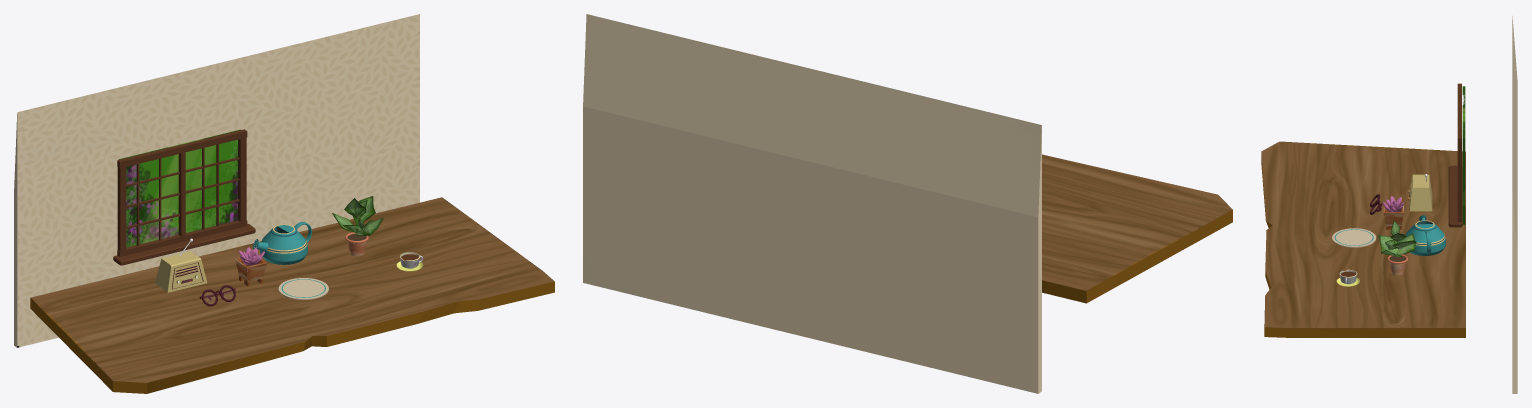
The model's file is escenario3.glb.
3 views of the same model, side by side, from view 1: azimuth 30°, elevation 25°; view 2: azimuth 150°, elevation 25°; view 3: azimuth 270°, elevation 25° (orthographic). The views are drawn at different scales.
Parts seen in each view (by area): view 1: pared, Cube_1.002, Ventana parte 4.001, ventana exterior, Cylinder.001, Cylinder.010, Circle.001, Cube; view 2: pared, Cube_1.002; view 3: Cube_1.002, pared, Ventana parte 4.001, Cylinder.001, Cylinder.010, Circle.001, ventana exterior, Matera_Tierra.001, Cube.
Part boxes in pixels (bbox=[...]): pared: bbox=[14, 14, 419, 347]; Cube_1.002: bbox=[30, 197, 554, 393]; Ventana parte 4.001: bbox=[113, 129, 255, 265]; ventana exterior: bbox=[118, 129, 240, 247]; Cylinder.001: bbox=[253, 222, 311, 264]; Cylinder.010: bbox=[155, 238, 207, 292]; Circle.001: bbox=[278, 278, 328, 299]; Cube: bbox=[235, 258, 266, 286]; pared: bbox=[583, 14, 1041, 393]; Cube_1.002: bbox=[1042, 154, 1232, 303]; Cube_1.002: bbox=[1261, 141, 1465, 337]; pared: bbox=[1512, 16, 1517, 393]; Ventana parte 4.001: bbox=[1448, 83, 1462, 227]; Cylinder.001: bbox=[1405, 215, 1445, 255]; Cylinder.010: bbox=[1408, 174, 1432, 211]; Circle.001: bbox=[1332, 228, 1376, 247]; ventana exterior: bbox=[1462, 86, 1465, 224]; Matera_Tierra.001: bbox=[1387, 254, 1407, 275]; Cube: bbox=[1383, 204, 1403, 229].
Size of the model in its own units: 27.46 by 14.07 by 15.8.
23 materials, 7 textured.
